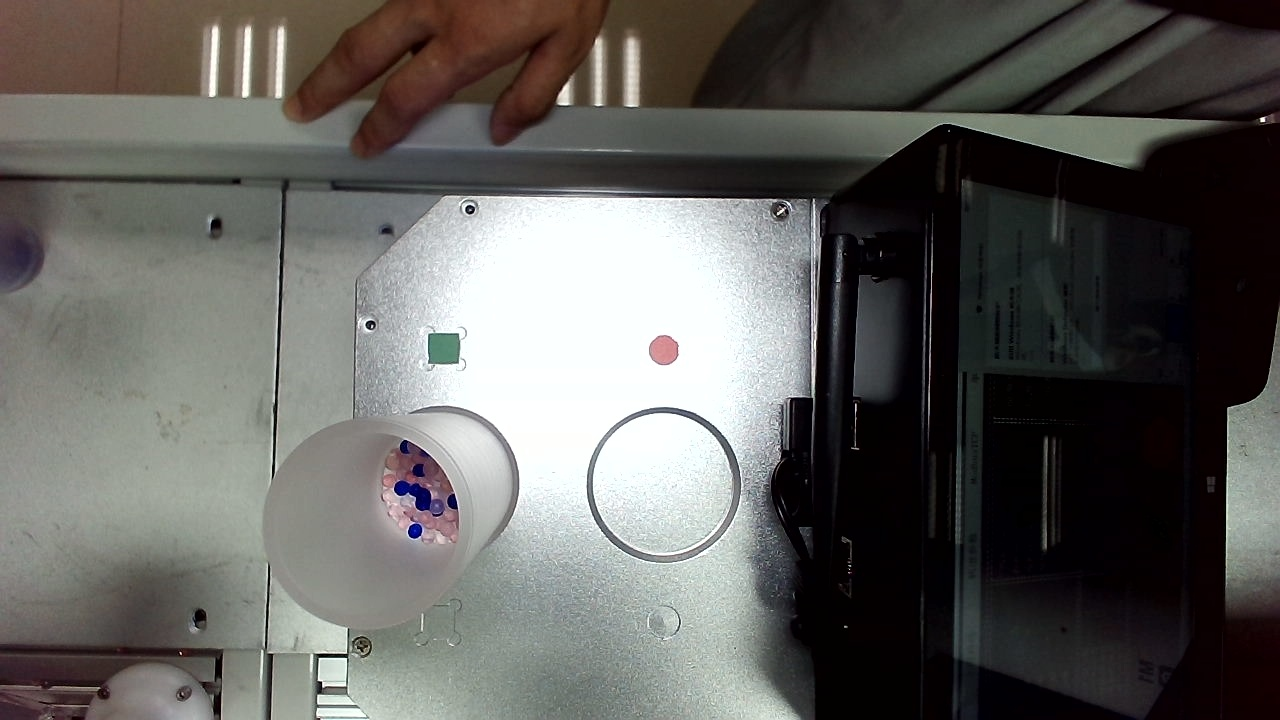bad: (254, 611, 307, 655), (259, 16, 305, 60), (782, 16, 825, 63), (809, 530, 854, 573), (583, 297, 628, 340), (630, 637, 671, 680), (468, 644, 508, 688), (258, 288, 298, 329), (794, 77, 830, 122), (519, 246, 559, 285), (820, 461, 859, 501), (774, 465, 817, 501), (345, 1, 384, 40), (851, 524, 889, 564), (257, 332, 297, 369), (836, 49, 876, 86), (269, 205, 313, 238), (260, 168, 299, 205), (773, 218, 812, 254), (570, 435, 604, 473), (436, 43, 472, 78), (832, 194, 872, 224), (806, 52, 840, 85)
defact: (681, 145, 715, 182)
pass: (567, 147, 615, 197), (582, 401, 626, 445), (261, 526, 304, 569), (263, 408, 306, 449), (287, 568, 330, 609), (515, 391, 554, 435), (389, 482, 430, 523), (792, 435, 834, 475), (716, 573, 754, 616), (846, 487, 889, 523), (687, 100, 726, 139), (566, 609, 604, 649), (779, 580, 815, 622), (678, 42, 710, 82), (807, 599, 841, 635), (852, 561, 891, 592)
toolong: (633, 441, 697, 498), (804, 301, 855, 350), (343, 39, 381, 103)
unpass: (830, 4, 874, 53), (611, 576, 655, 619), (798, 204, 844, 245), (408, 273, 448, 319), (277, 364, 319, 404), (640, 13, 677, 57), (308, 6, 346, 46), (824, 573, 863, 611), (403, 55, 440, 95), (822, 159, 864, 194), (685, 568, 721, 607), (712, 164, 748, 203), (748, 444, 788, 479), (690, 9, 727, 46), (697, 269, 735, 305), (845, 323, 883, 358), (737, 227, 770, 265), (816, 411, 850, 445), (849, 455, 887, 484), (777, 54, 808, 88)
